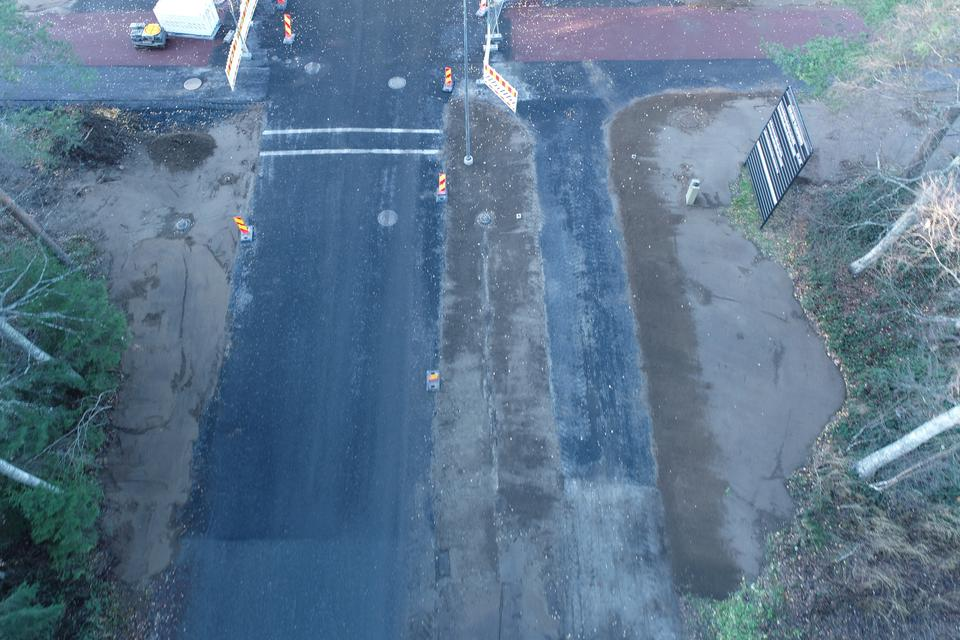intersection: (204, 0, 691, 156)
